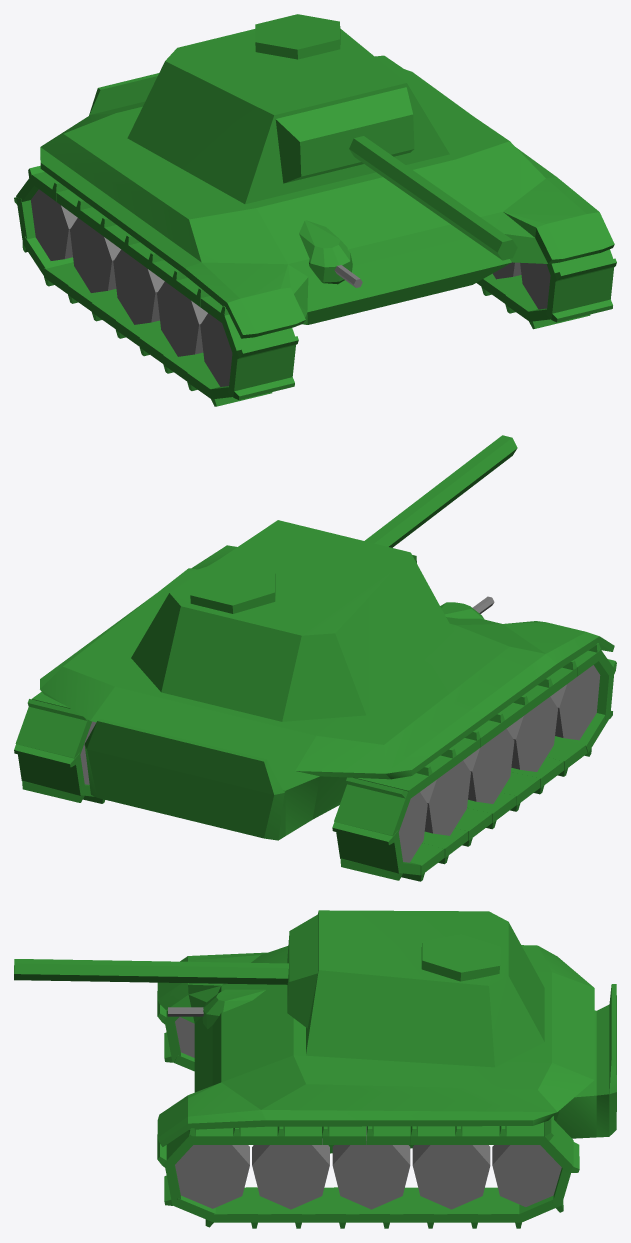
File: Tank Player.fbx
The picture shows the model from 3 angles, top to bottom: view 1: azimuth 30°, elevation 25°; view 2: azimuth 150°, elevation 25°; view 3: azimuth 270°, elevation 25°; orthographic projection. The views are drawn at different scales.
Visible parts, largest first — view 1: Chasis, Turret, Cylinder013, Cylinder012, Cylinder020, Box012, Box033, Cylinder008, Cylinder009, Cylinder007, Cylinder010, Sphere001 (+21 smaller); view 2: Chasis, Turret, Cylinder012, Cylinder020, Box010, Box031, Cylinder007, Cylinder008, Cylinder009, Cylinder006, Box022, Box043 (+13 smaller); view 3: Chasis, Turret, Cylinder012, Cylinder016, Cylinder017, Cylinder015, Cylinder014, Cylinder018, Cylinder020, Cylinder013, Box039, Box037 (+22 smaller).
Part boxes in pixels (x1,y1,x2,y2): Chasis: [40, 55, 614, 338]; Turret: [127, 28, 449, 204]; Cylinder013: [275, 87, 414, 183]; Cylinder012: [349, 136, 517, 260]; Cylinder020: [255, 14, 340, 59]; Box012: [228, 345, 295, 399]; Box033: [546, 267, 613, 322]; Cylinder008: [113, 249, 164, 324]; Cylinder009: [70, 218, 120, 292]; Cylinder007: [157, 281, 207, 356]; Cylinder010: [31, 189, 77, 260]; Sphere001: [299, 220, 352, 284]; Chasis: [40, 545, 614, 840]; Turret: [131, 520, 453, 721]; Cylinder012: [365, 435, 517, 547]; Cylinder020: [190, 558, 275, 613]; Box010: [334, 777, 411, 836]; Box031: [15, 699, 91, 758]; Cylinder007: [506, 697, 557, 771]; Cylinder008: [463, 728, 514, 803]; Cylinder009: [420, 760, 470, 835]; Cylinder006: [550, 665, 600, 740]; Box022: [332, 822, 403, 873]; Box043: [14, 744, 84, 795]; Chasis: [157, 945, 616, 1153]; Turret: [306, 910, 544, 1067]; Cylinder012: [14, 959, 288, 984]; Cylinder016: [332, 1126, 410, 1209]; Cylinder017: [412, 1145, 490, 1209]; Cylinder015: [252, 1138, 329, 1209]; Cylinder014: [175, 1145, 249, 1208]; Cylinder018: [492, 1145, 561, 1206]; Cylinder020: [421, 934, 500, 981]; Cylinder013: [287, 914, 317, 1028]; Box039: [389, 1187, 433, 1228]; Box037: [301, 1187, 345, 1228].
Bounding box in the file's own units: 72.47 × 41.4 × 109.
